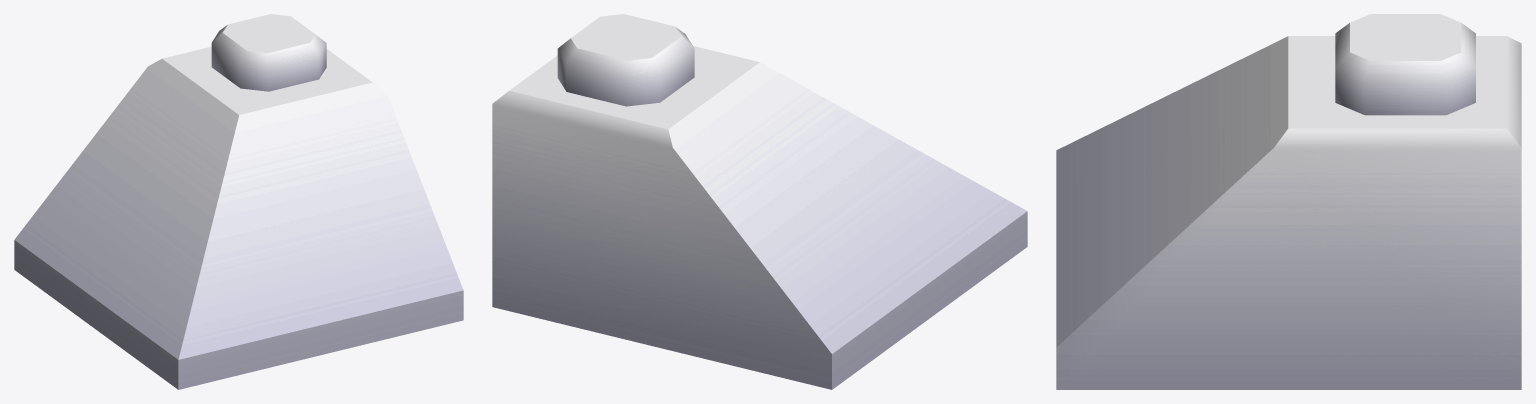
Rendered from bevel-hq-brick-slope-corner-outside-2x2.glb.
3 renders of one model, left to right at view 1: azimuth 30°, elevation 25°; view 2: azimuth 150°, elevation 25°; view 3: azimuth 270°, elevation 25°, orthographic. The views are drawn at different scales.
Visible parts, largest first — view 1: bevel-hq-brick-slope-corner-outside-2x2; view 2: bevel-hq-brick-slope-corner-outside-2x2; view 3: bevel-hq-brick-slope-corner-outside-2x2.
Boxes of the visible parts, bbox=[...] form: bevel-hq-brick-slope-corner-outside-2x2: bbox=[14, 14, 463, 389]; bevel-hq-brick-slope-corner-outside-2x2: bbox=[492, 14, 1027, 389]; bevel-hq-brick-slope-corner-outside-2x2: bbox=[1056, 14, 1521, 389].
Bounding box in the file's own units: 0.795 × 0.57 × 0.7925.
1 material, 1 textured.
